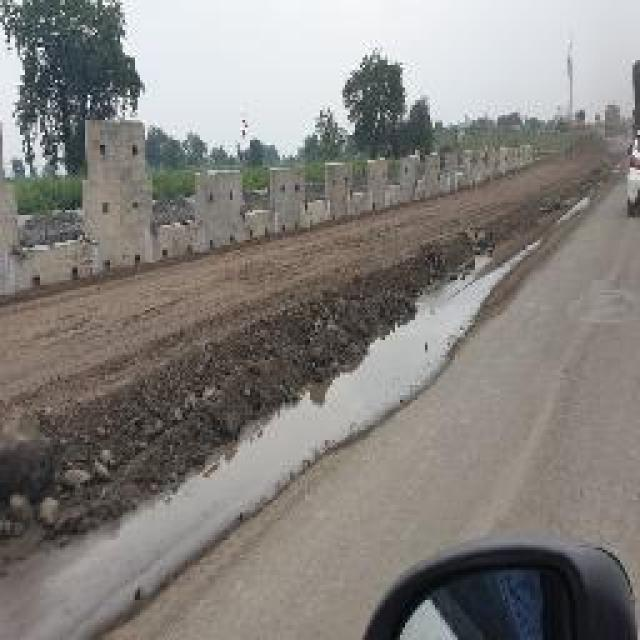waterlogging: (0, 413, 289, 640), (288, 220, 550, 413)
